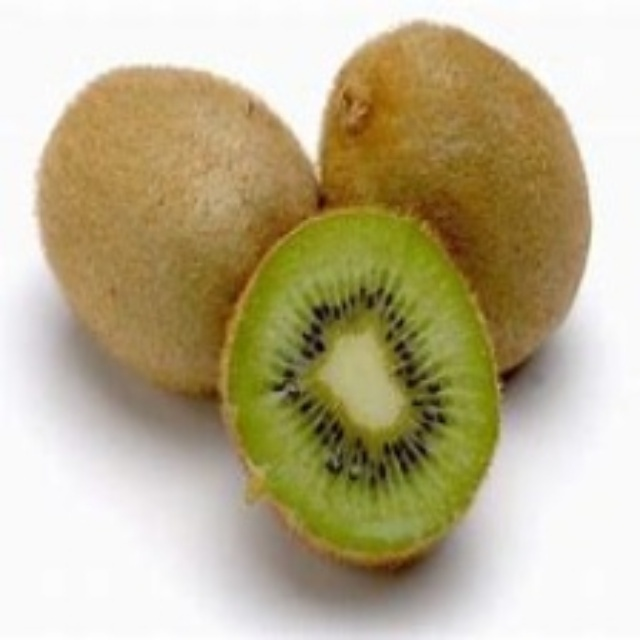kiwi: (217, 209, 502, 576), (26, 70, 338, 394), (319, 30, 583, 358)
